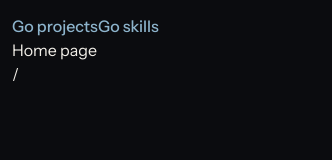
Test: AC-24: directional GL route transition › effects-on path exposes a disposable overlay contract (duration ≤ 600ms)
Step 1. Click the link "Go skills" → (128, 26), box [98,16,159,36]
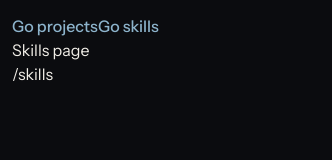
Now the text with test id "path" reads "/skills", box [12,64,53,84]
